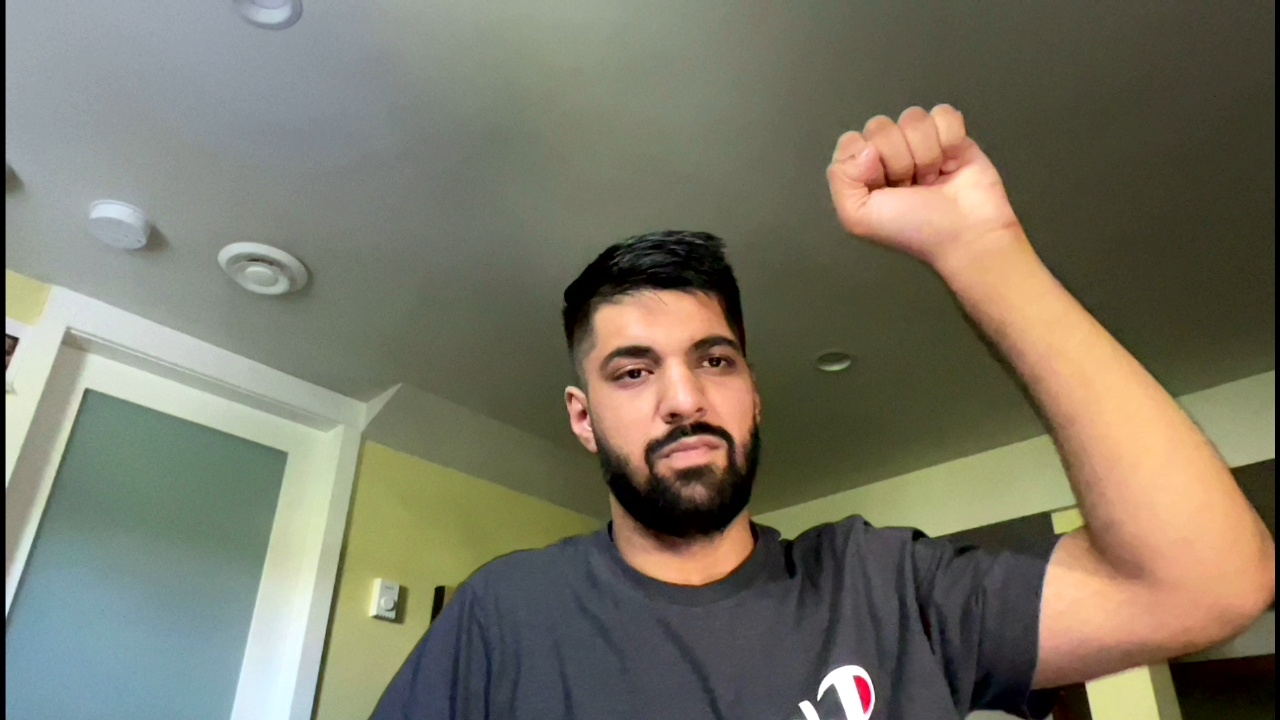No: (819, 98, 1029, 238)
